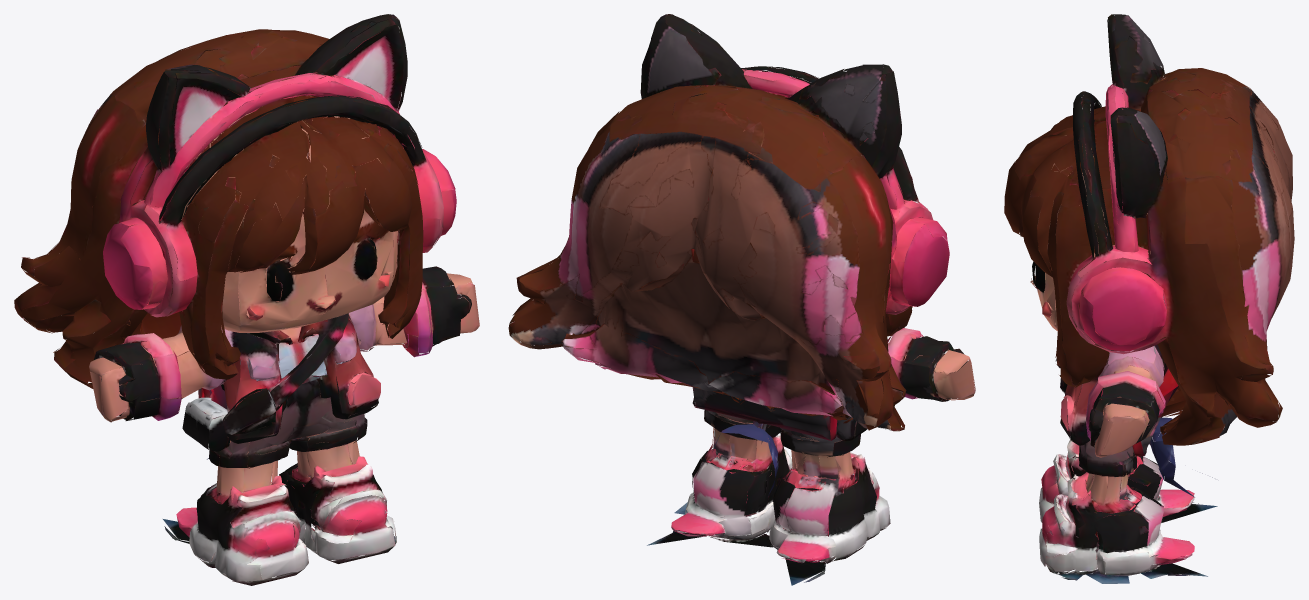
Rendered from rae_final.glb.
The picture shows the model from 3 angles, left to right: view 1: azimuth 30°, elevation 25°; view 2: azimuth 150°, elevation 25°; view 3: azimuth 270°, elevation 25°; orthographic projection. The views are drawn at different scales.
Parts seen in each view (by area): view 1: Body; view 2: Body; view 3: Body.
Boxes of the visible parts, x1,y1,x2,y2 form: Body: [14, 14, 479, 585]; Body: [508, 14, 975, 585]; Body: [1004, 14, 1294, 583].
Size of the model in its own units: 0.5723 by 0.72 by 0.3976.
1 material, 1 textured.
